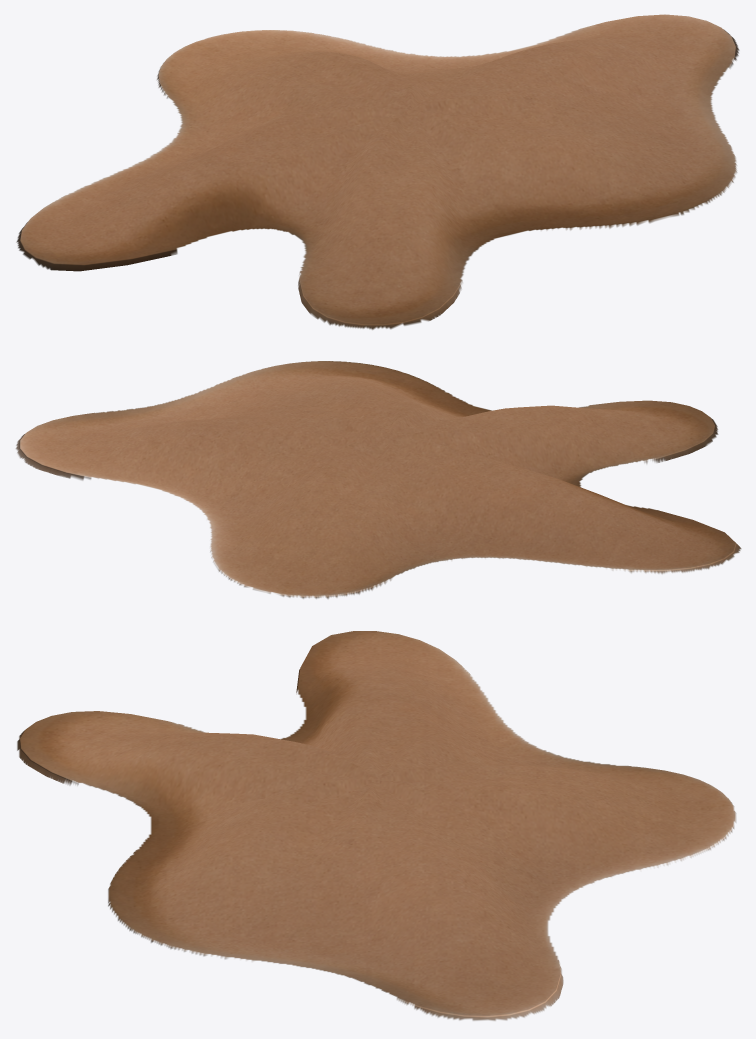
Rendered from dirt_10.glb.
3 renders of one model, top to bottom at view 1: azimuth 30°, elevation 25°; view 2: azimuth 150°, elevation 25°; view 3: azimuth 270°, elevation 25°, orthographic. The views are drawn at different scales.
Parts seen in each view (by area): view 1: dirt_10; view 2: dirt_10; view 3: dirt_10.
Part boxes in pixels (<box>): dirt_10: <box>16,14,739,329</box>; dirt_10: <box>15,361,741,599</box>; dirt_10: <box>17,631,736,1021</box>.
Size of the model in its own units: 0.8663 by 0.0608 by 0.6807.
1 material, 1 textured.
